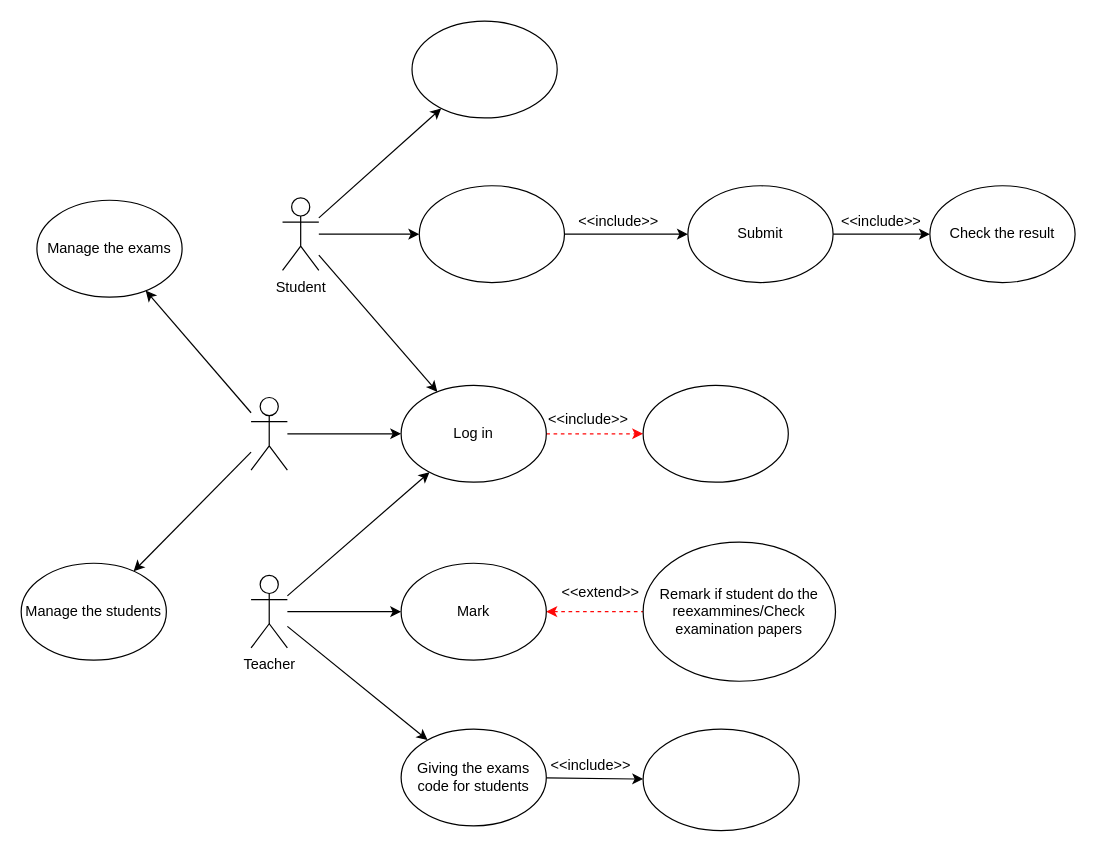
Some shapes in this 1096 by 852 pixel diagram are drawn without their labels. Here are the shapes that lost their labels. From the top down, the box of each, then its label:
(411, 20, 557, 118): reexamine / Check examination papers
(418, 185, 564, 283): Do the exams
(250, 396, 287, 470): Admin
(642, 384, 788, 482): Authentication
(642, 728, 799, 831): Search for exams and results
